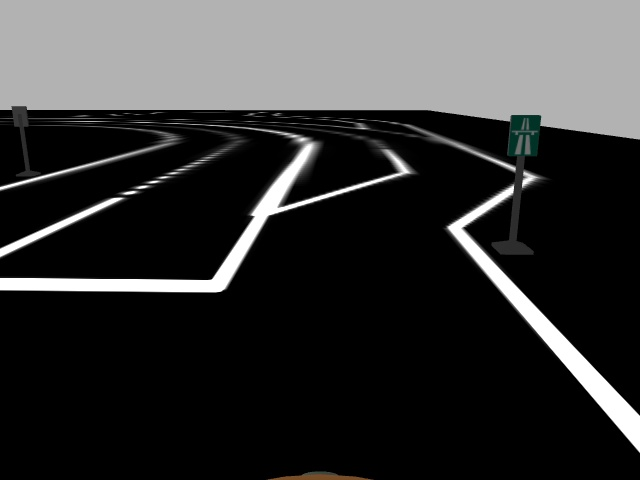enter_highway: (505, 114, 543, 158)
